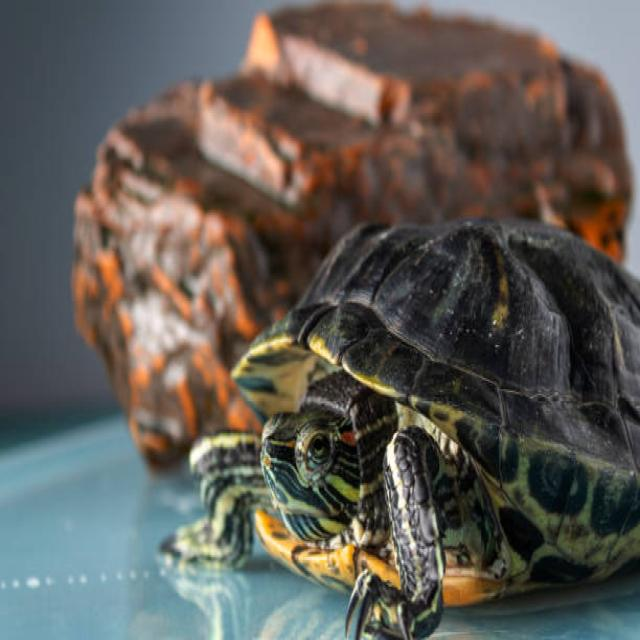terrapin: (250, 198, 640, 596), (370, 412, 482, 640), (244, 382, 364, 550), (153, 417, 263, 593)
